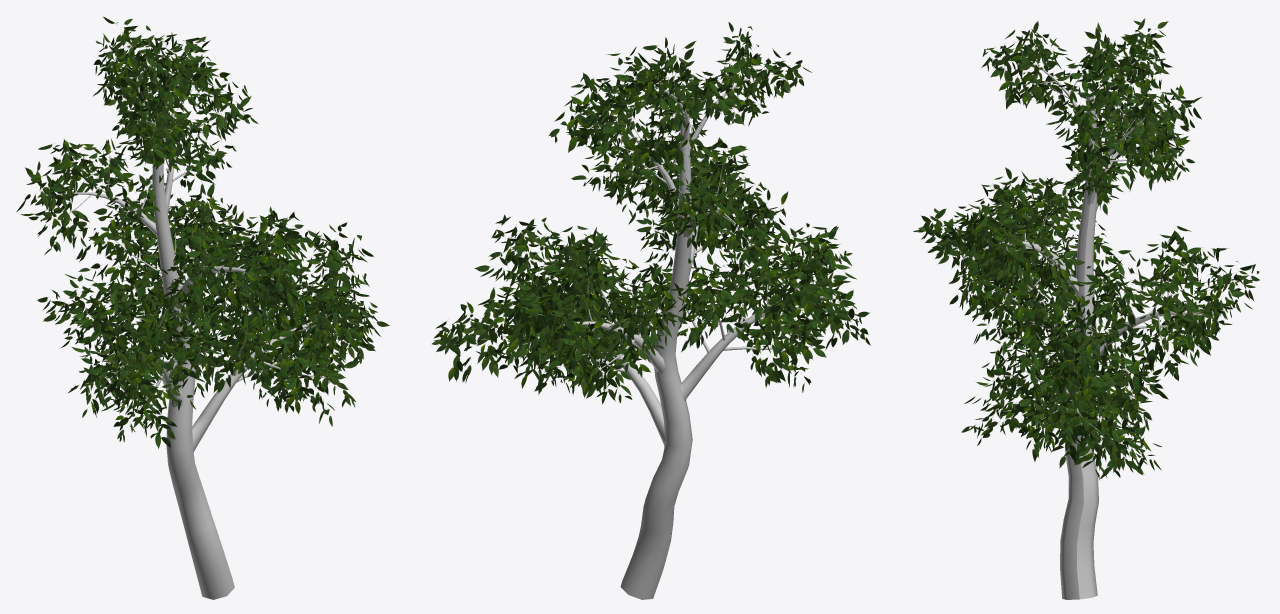
3 views of the same model, side by side, from view 1: azimuth 30°, elevation 25°; view 2: azimuth 150°, elevation 25°; view 3: azimuth 270°, elevation 25° (orthographic). The views are drawn at different scales.
Parts seen in each view (by area): view 1: meshname.020, meshname.019; view 2: meshname.020, meshname.019; view 3: meshname.020, meshname.019.
Part boxes in pixels (x1,y1,x2,y2): meshname.020: (16, 16, 390, 448); meshname.019: (52, 34, 346, 599); meshname.020: (432, 22, 870, 404); meshname.019: (455, 39, 851, 599); meshname.020: (913, 18, 1260, 479); meshname.019: (942, 39, 1234, 599).
Size of the model in its own units: 5.2 by 7.5 by 4.43.
